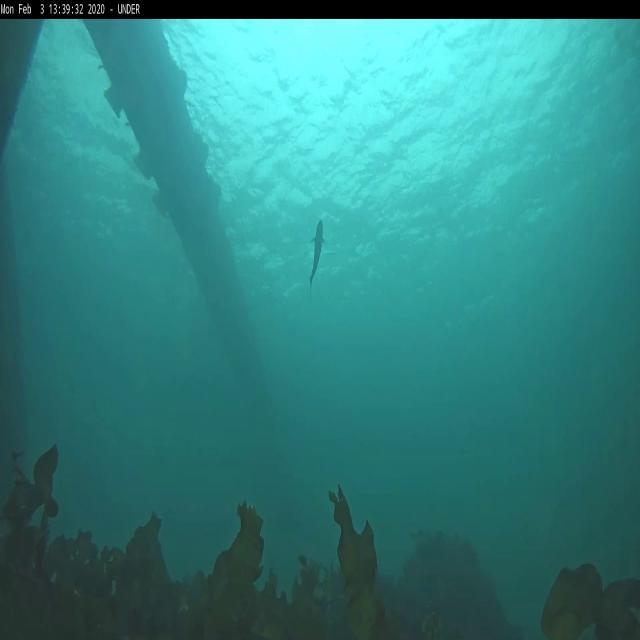fish: (310, 218, 324, 288)
